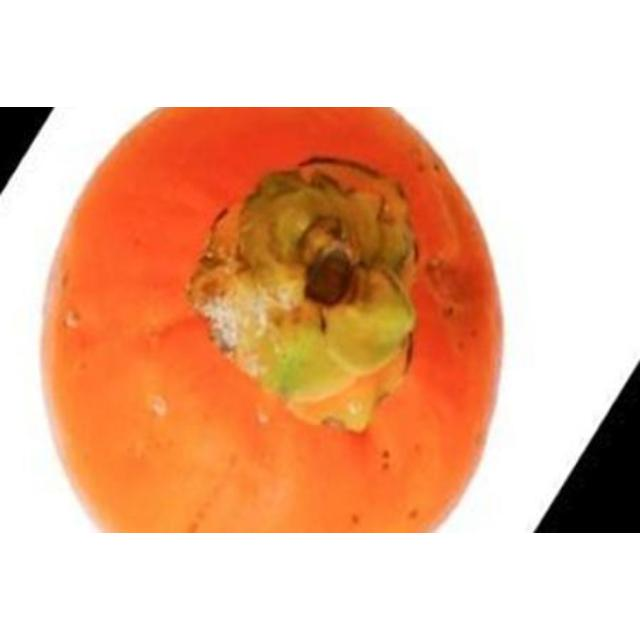good: (46, 107, 496, 532)
